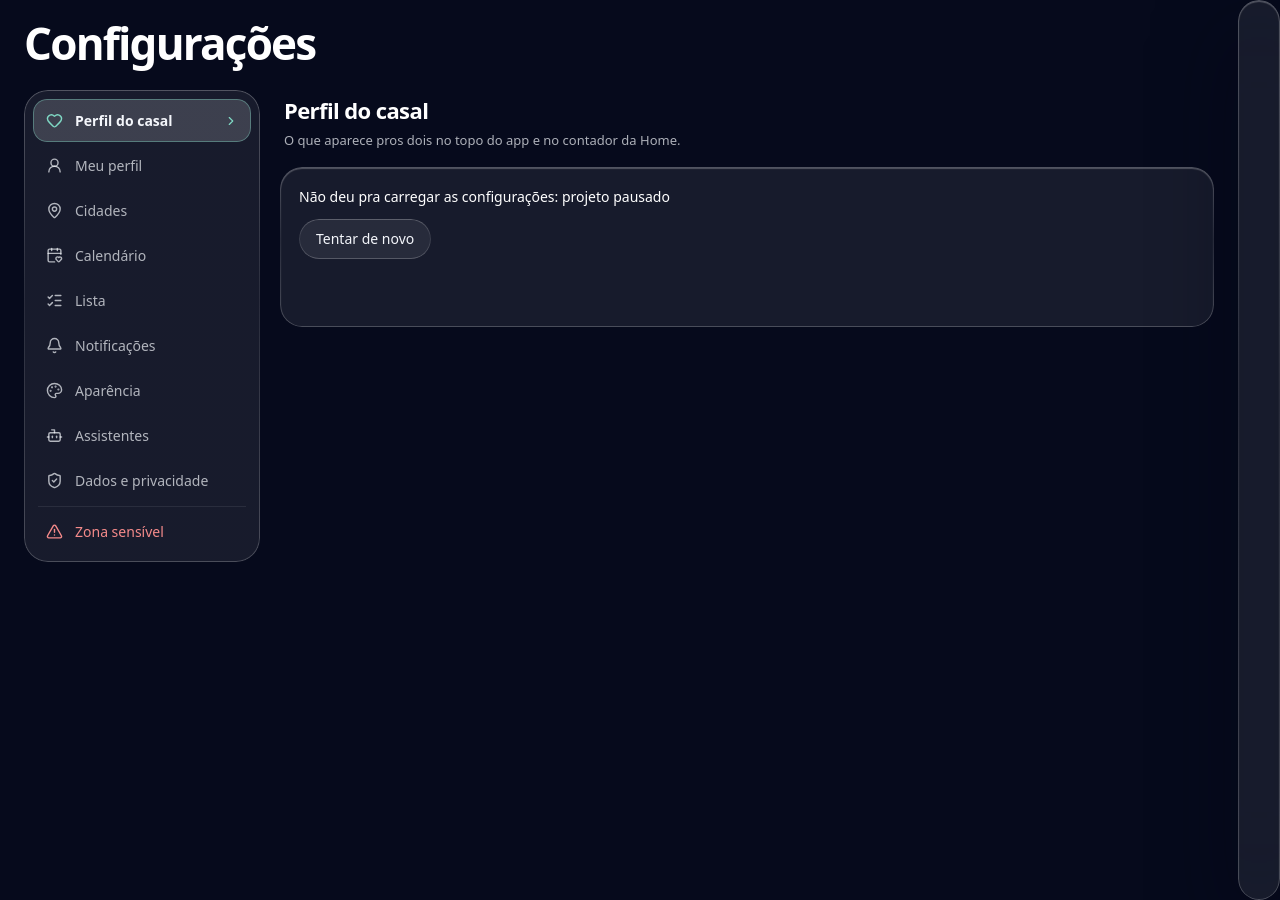
Test: A14 — leitura: esqueleto, erro, e nunca padrão no lugar de dado › com erro, mostra a causa e tenta de novo
Expected: the message shows "Não deu pra carregar as configurações: projeto pausado", [280,167,1214,327]
Click the button "Tentar de novo" at point(365, 239), box [299,219,431,259]
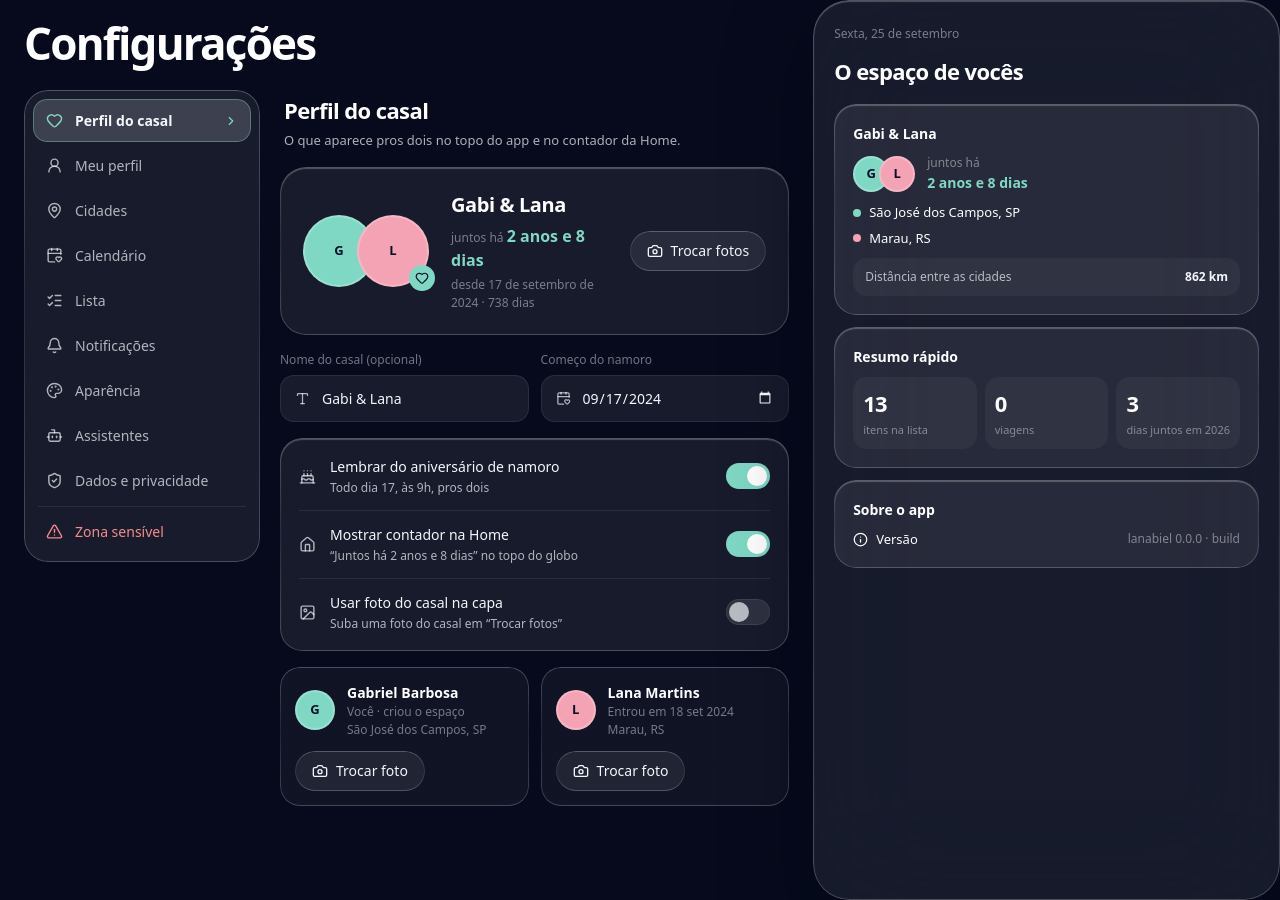
Result: the number of switches is 3 at [726,463,770,489]; [726,531,770,557]; [726,599,770,625]
